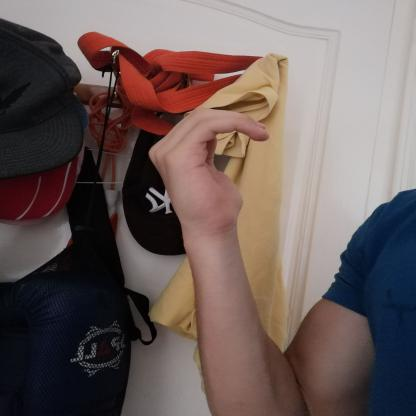HAA: (133, 101, 281, 233)
